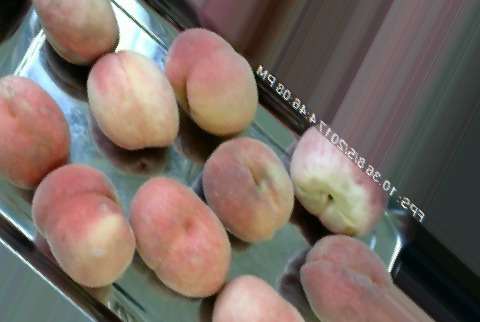Peach: (30, 163, 135, 288), (128, 175, 230, 299), (289, 122, 384, 241), (163, 26, 257, 136), (202, 136, 295, 242), (86, 49, 180, 149), (0, 74, 70, 190), (30, 0, 121, 63)
